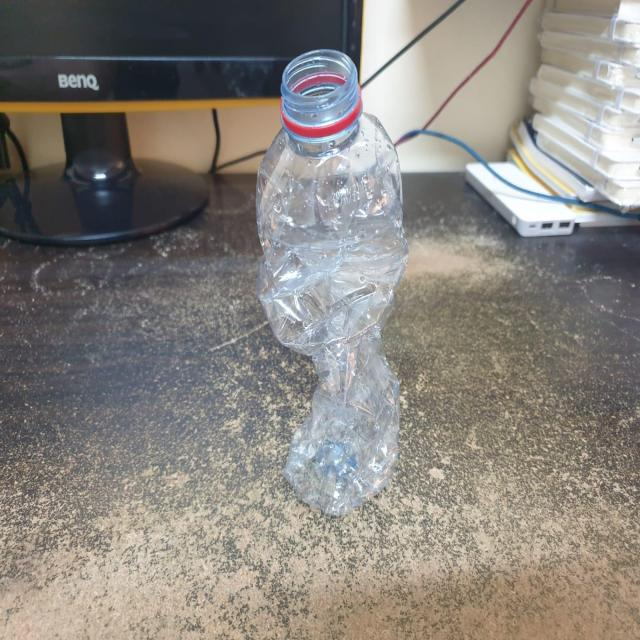bottle: (260, 50, 404, 512)
